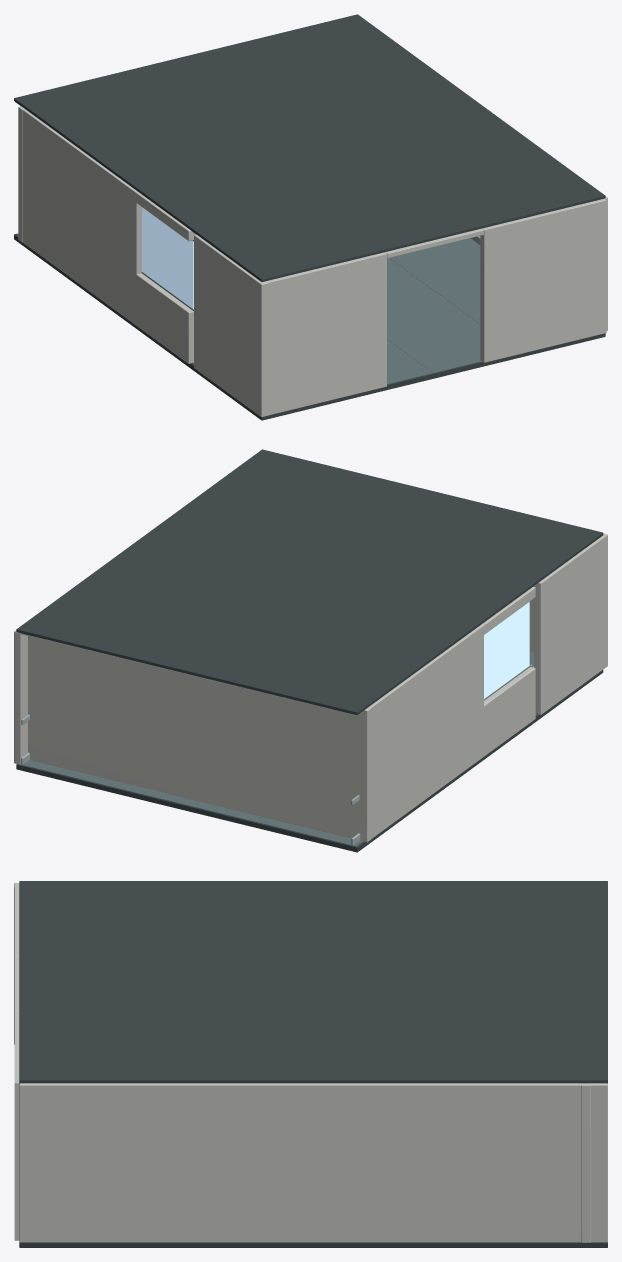
Rendered from HospitalRoomLit.fbx.
The picture shows the model from 3 angles, top to bottom: view 1: azimuth 30°, elevation 25°; view 2: azimuth 150°, elevation 25°; view 3: azimuth 270°, elevation 25°; orthographic projection. The views are drawn at different scales.
Parts seen in each view (by area): view 1: Room_Seams, Room_Wall, Entrance wall right, Entrance wall left, Room_Vinyl, Room_Window, Entrance lintel; view 2: Room_Seams, Room_Wall, Room_Window, Room_Vinyl, Room_Ceiling; view 3: Room_Seams, Room_Wall, Entrance wall right.
Part boxes in pixels (box(x1,y1,x2,y2)): Room_Seams: box(14, 14, 605, 420); Room_Wall: box(18, 106, 607, 417); Entrance wall right: box(480, 198, 606, 362); Entrance wall left: box(266, 252, 386, 415); Room_Vinyl: box(16, 233, 481, 384); Room_Window: box(142, 207, 193, 309); Entrance lintel: box(385, 228, 483, 258); Room_Seams: box(16, 449, 603, 852); Room_Wall: box(14, 533, 607, 842); Room_Window: box(484, 602, 529, 698); Room_Vinyl: box(20, 651, 536, 846); Room_Ceiling: box(20, 584, 536, 715); Room_Seams: box(19, 881, 607, 1247); Room_Wall: box(14, 883, 607, 1242); Entrance wall right: box(14, 1012, 19, 1240).
Bounding box in the file's own units: 8.8 × 3.4 × 10.9.
